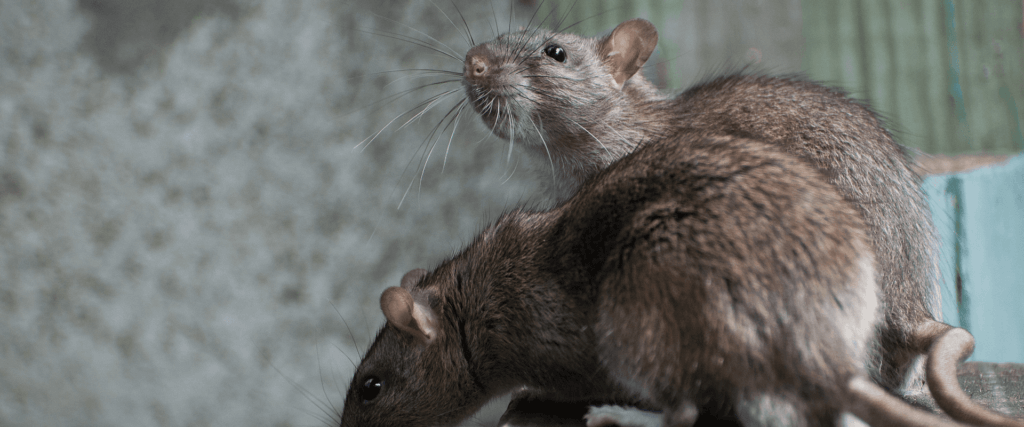Rat: (453, 6, 939, 340)
